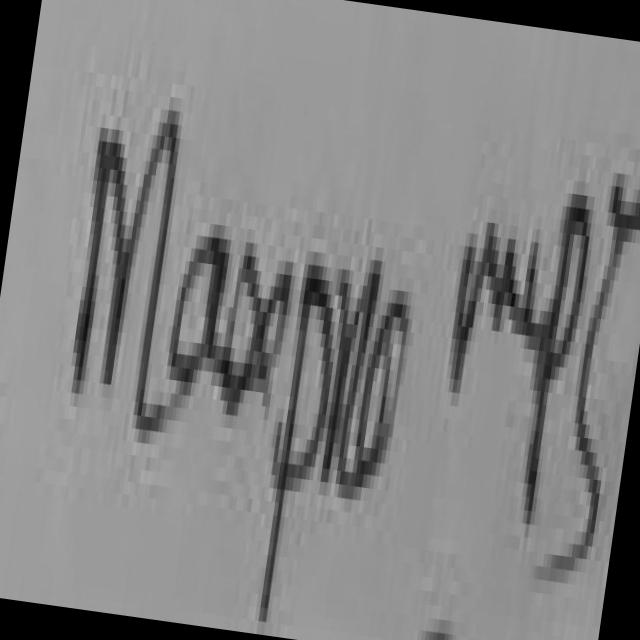M: (40, 30, 211, 504)
a: (156, 189, 247, 441)
m: (424, 146, 526, 458)
o: (348, 246, 426, 512)
p: (252, 223, 352, 640), (509, 140, 604, 544)
r: (308, 212, 391, 536)
s: (546, 131, 640, 618)
u: (494, 190, 554, 382)
x: (208, 176, 308, 463)
